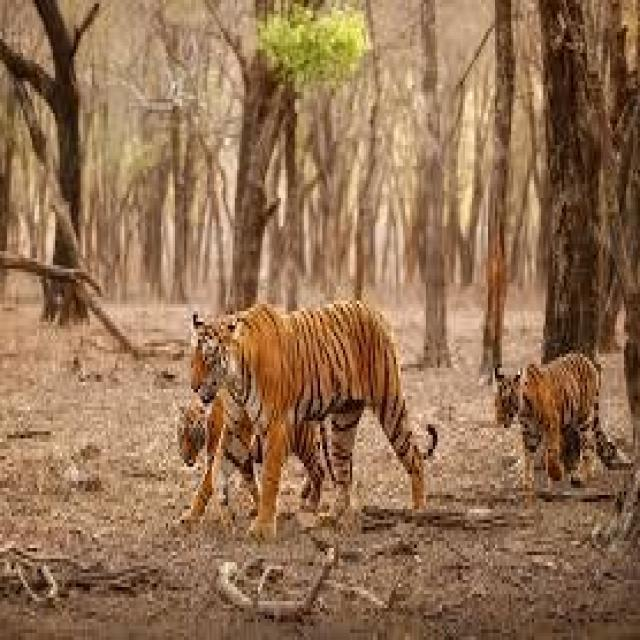Tiger: (175, 284, 458, 496), (484, 346, 638, 484)
